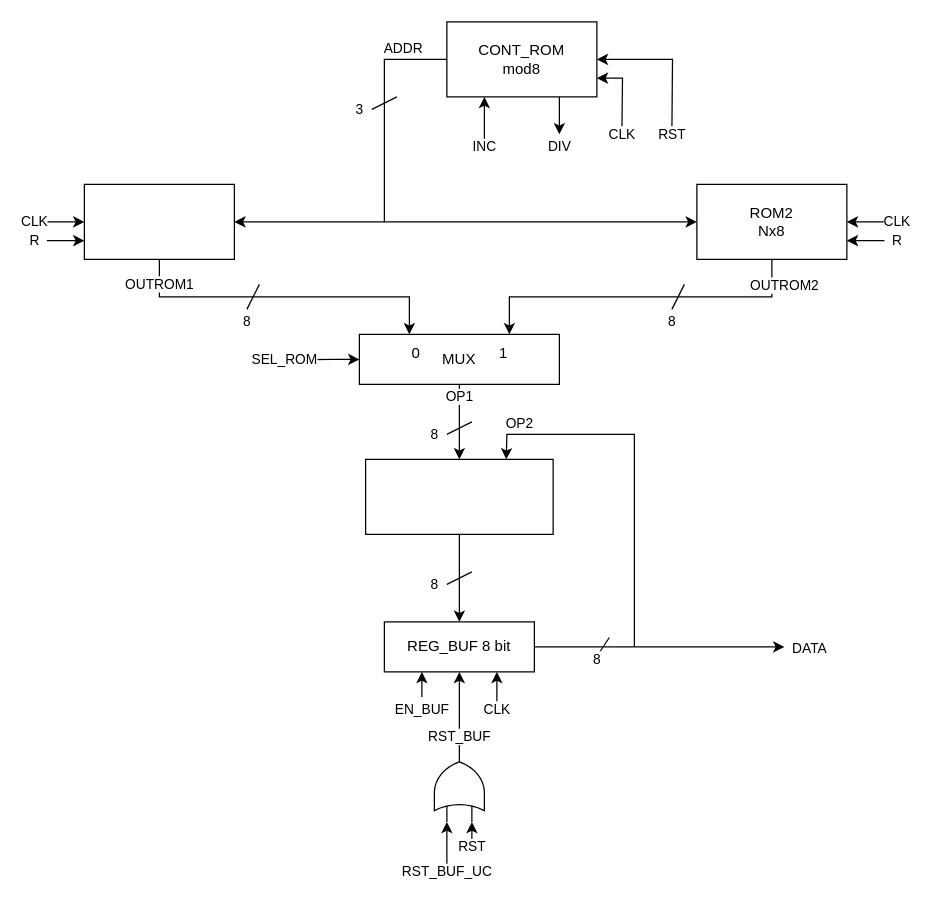
Image size: 931x904. Some labels were removed from this diagram. The centre of each missing label's shape, as x and y in pixels:
"ADDER" belongs at (458,496).
"ROM1 Nx8" belongs at (158,221).
